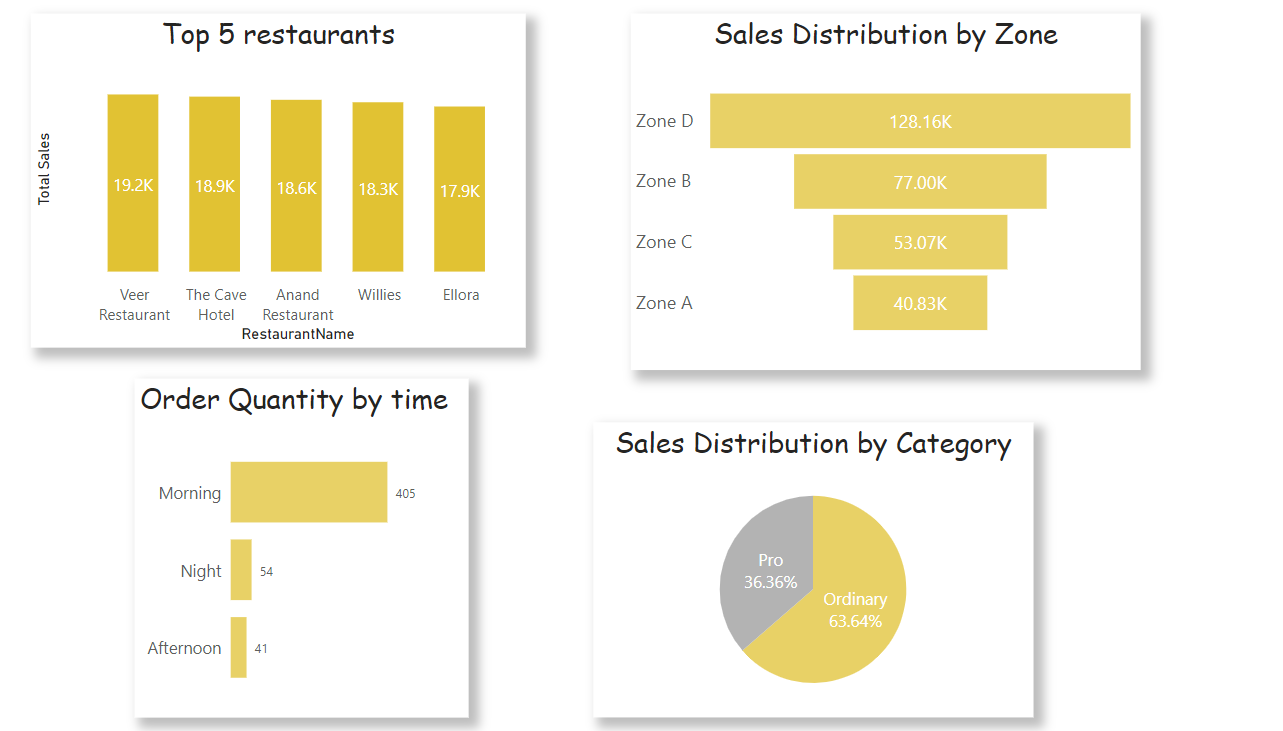

This screenshot's page, from the dashboard's own definition file:
{"tool":"powerbi","page":{"name":"Page 2","canvas":[1280,720],"ordinal":1},"visuals":[{"type":"barChart","title":"Order Quantity by time","fields":{"Category":["Query1.Time_of_Day"],"Y":["Sum(Query1.Orders by time of day)"]},"box":[161.6,378.7,322,326.8],"z":0},{"type":"funnel","title":"Sales Distribution by Zone","fields":{"Category":["Query5.zone"],"Y":["Sum(Query5.Total order )"]},"box":[640.4,26.5,492.1,343.7],"z":1000},{"type":"pieChart","title":"Sales Distribution by Category","fields":{"Category":["Query6.Category"],"Y":["Sum(Query6.Total order )"],"Series":["Query6.Category"]},"box":[604.2,420.9,424.5,284.6],"z":2000},{"type":"clusteredColumnChart","title":"Top 5 restaurants","fields":{"Category":["Query7.RestaurantName"],"Y":["Sum(Query7.Total Orders)"]},"box":[61.5,26.5,477.6,322],"z":2001}]}

Visuals, with their boxes in screenshot pixels (x1, y1, x2, y2), scaled from the page's 1280x720 canvas onto the 1283x731 screenshot:
"Order Quantity by time" barChart: {"x1": 162, "y1": 384, "x2": 485, "y2": 716}
"Sales Distribution by Zone" funnel: {"x1": 642, "y1": 27, "x2": 1135, "y2": 376}
"Sales Distribution by Category" pieChart: {"x1": 606, "y1": 427, "x2": 1031, "y2": 716}
"Top 5 restaurants" clusteredColumnChart: {"x1": 62, "y1": 27, "x2": 540, "y2": 354}
